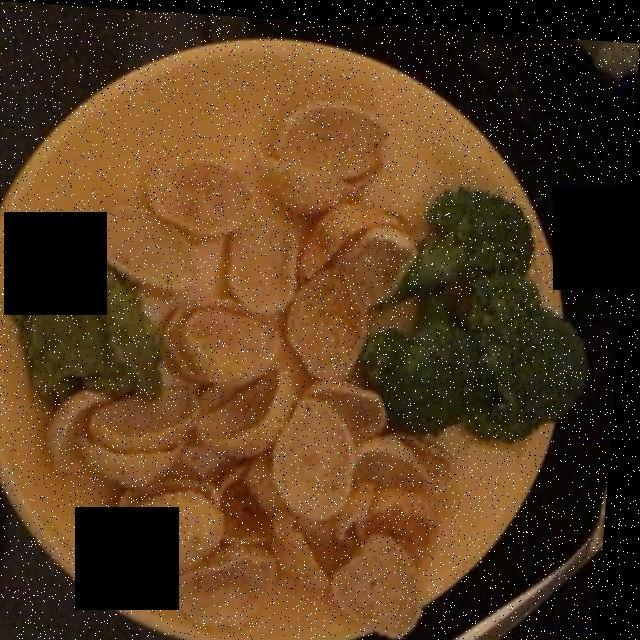broccoli: (361, 174, 581, 433)
crisps: (54, 97, 466, 628)
guacamole: (14, 253, 175, 407)
